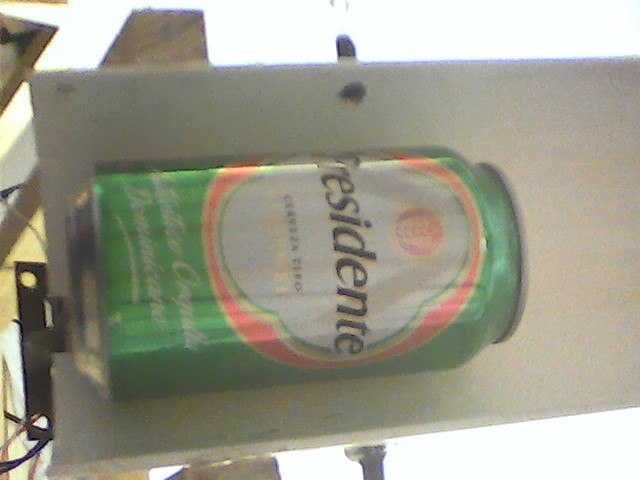lata: (59, 141, 541, 412)
